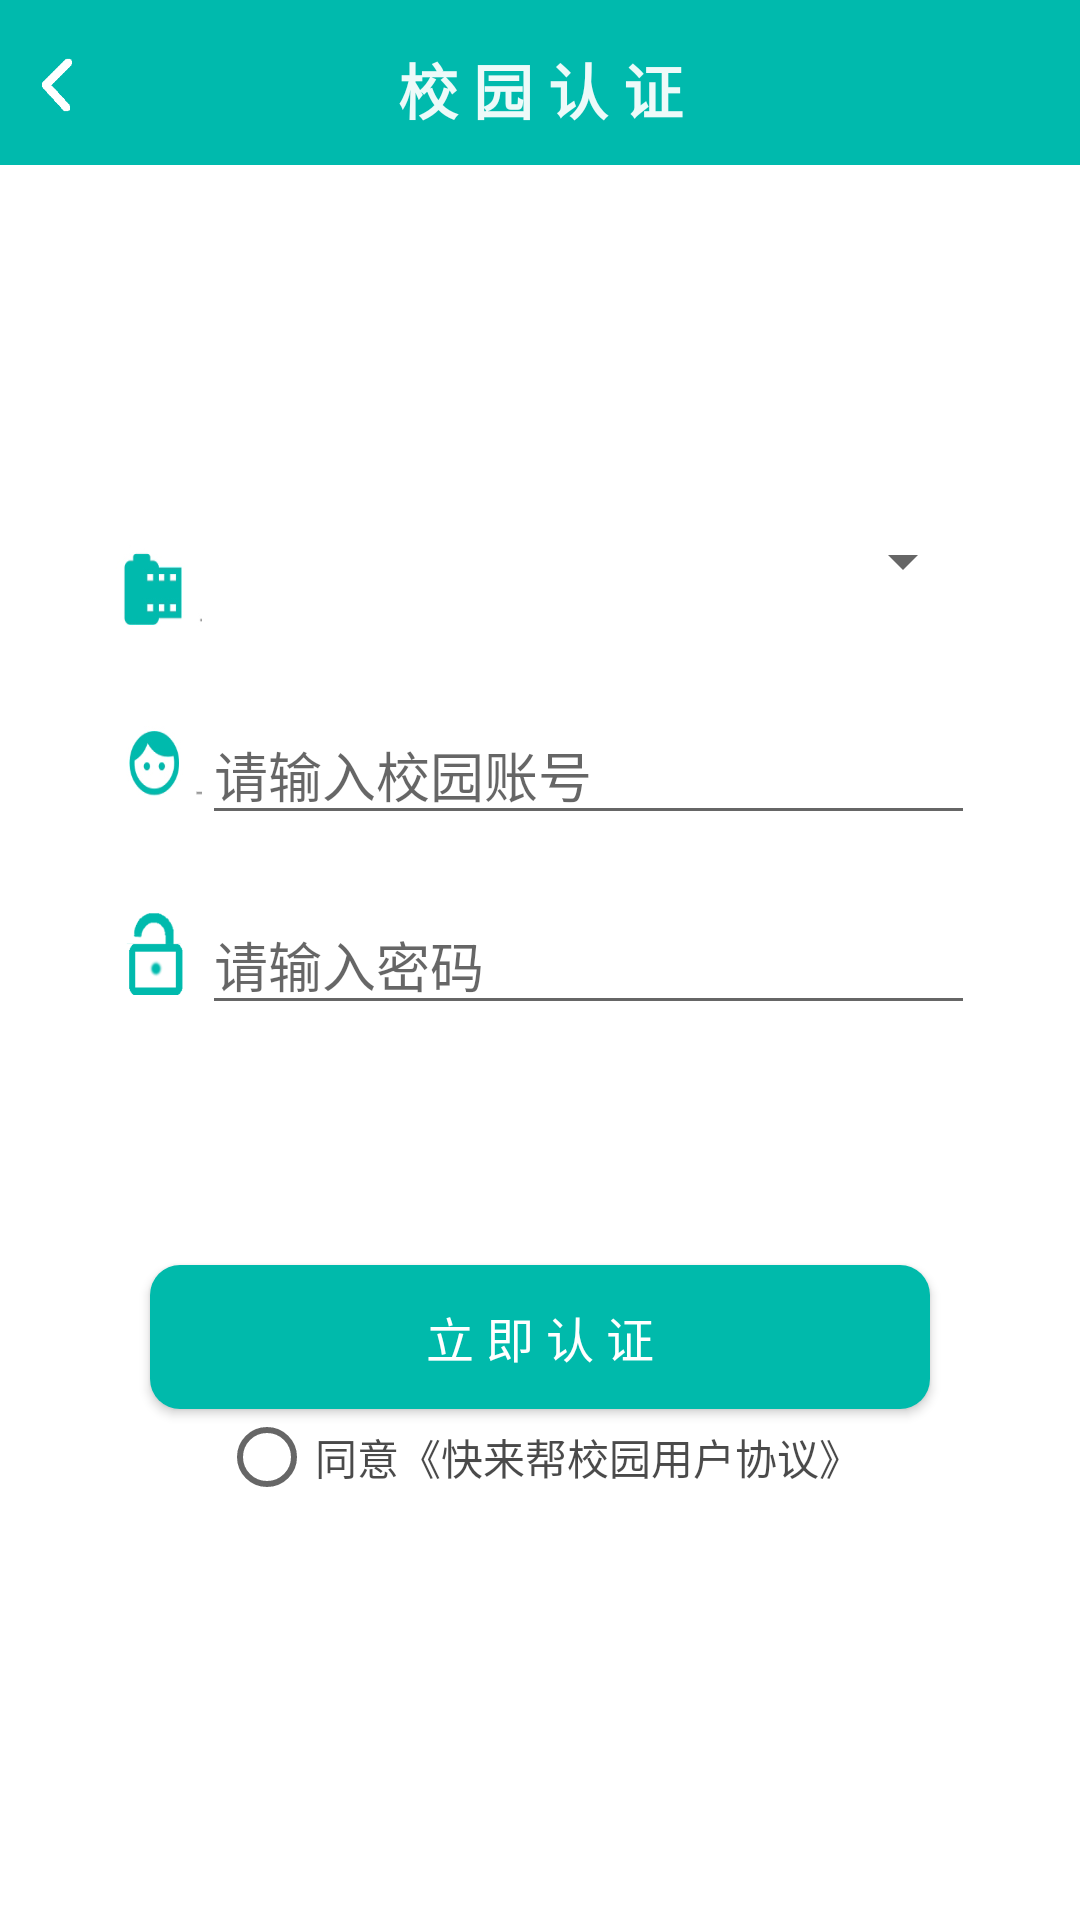

Icons on this 1080*1920 Android screen, each with its box as (x1,y1,x2,y2):
unlockgreen: (129,913,183,995)
